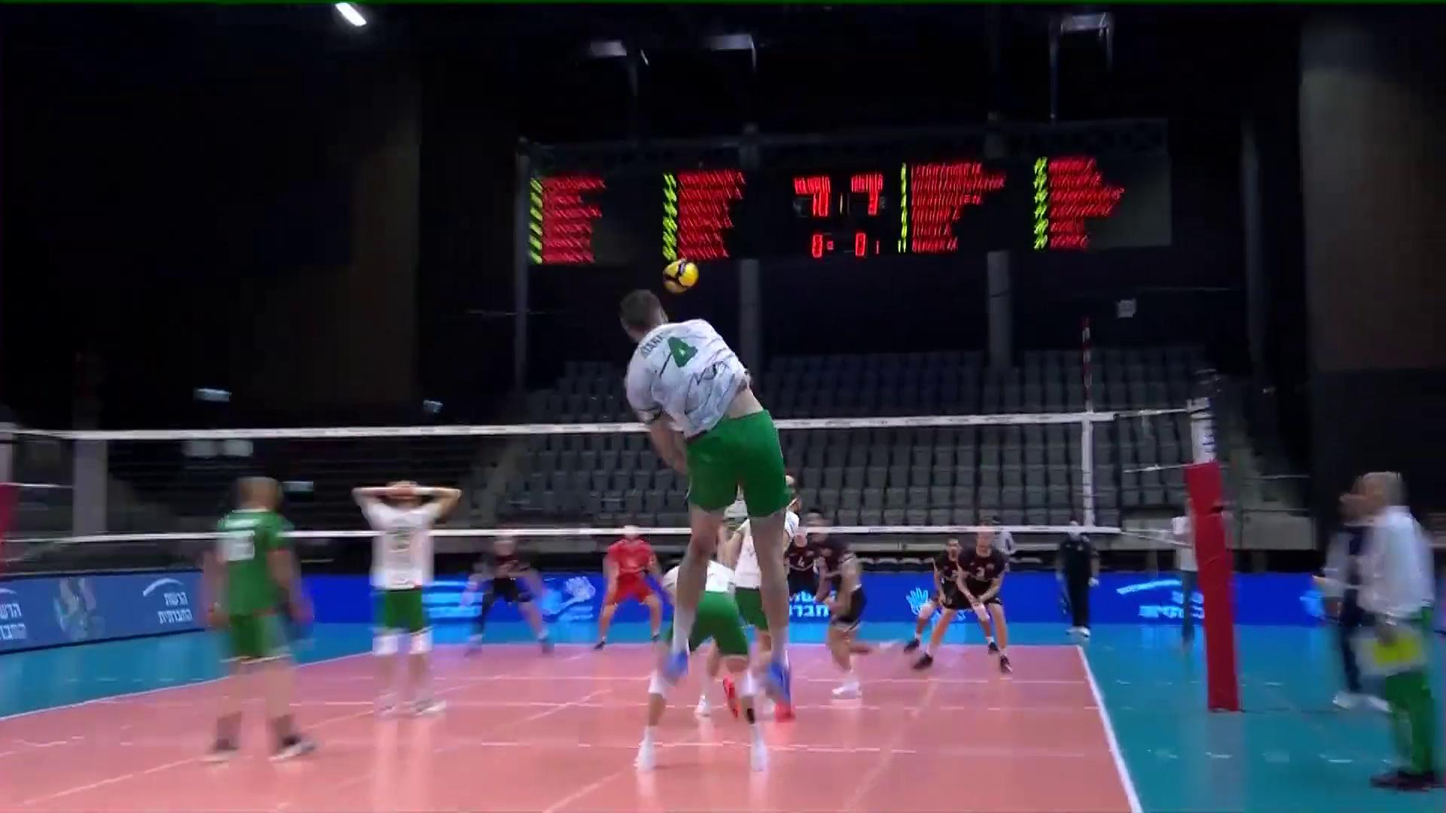ball: (660, 257, 700, 293)
